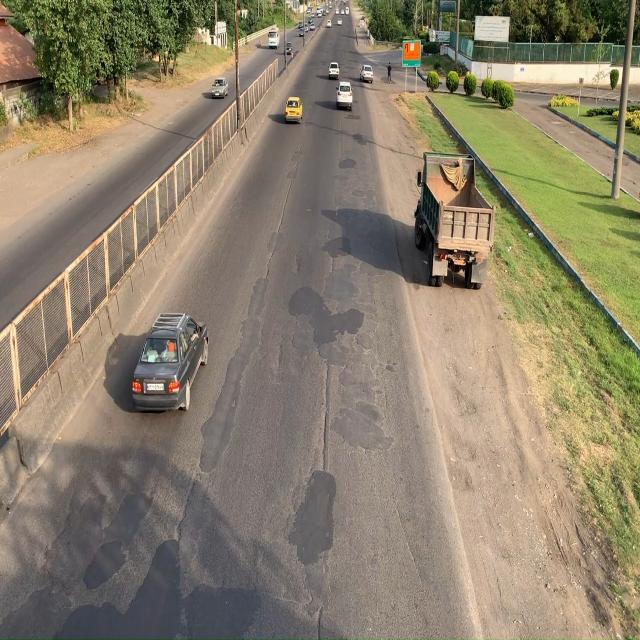Truck: (415, 148, 494, 286)
cars: (131, 314, 208, 408)
